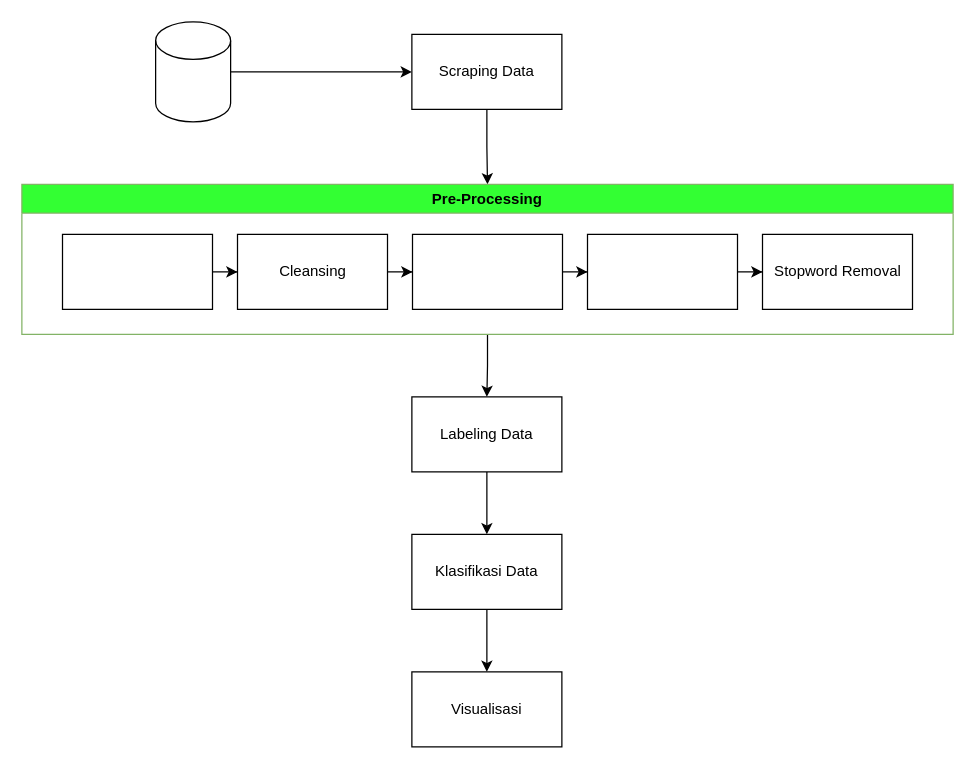
The diagram is 975 pixels wide and 769 high, and some of its shapes have lost their labels. The centre of each missing label's shape, as x and y in pixels:
"Case Folding" belongs at (136,271).
"Normalize" belongs at (662,271).
"Tokenizing" belongs at (486,271).
"Twitter" belongs at (192,71).
